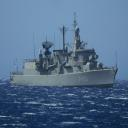Fragata: (11, 8, 121, 91)
